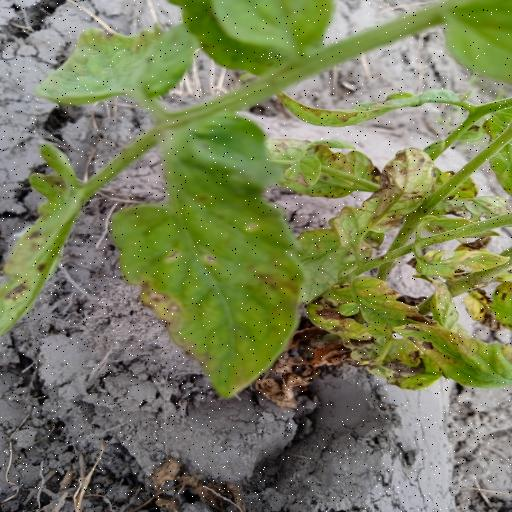Tomato_Brown_Spots: (111, 117, 308, 404)
